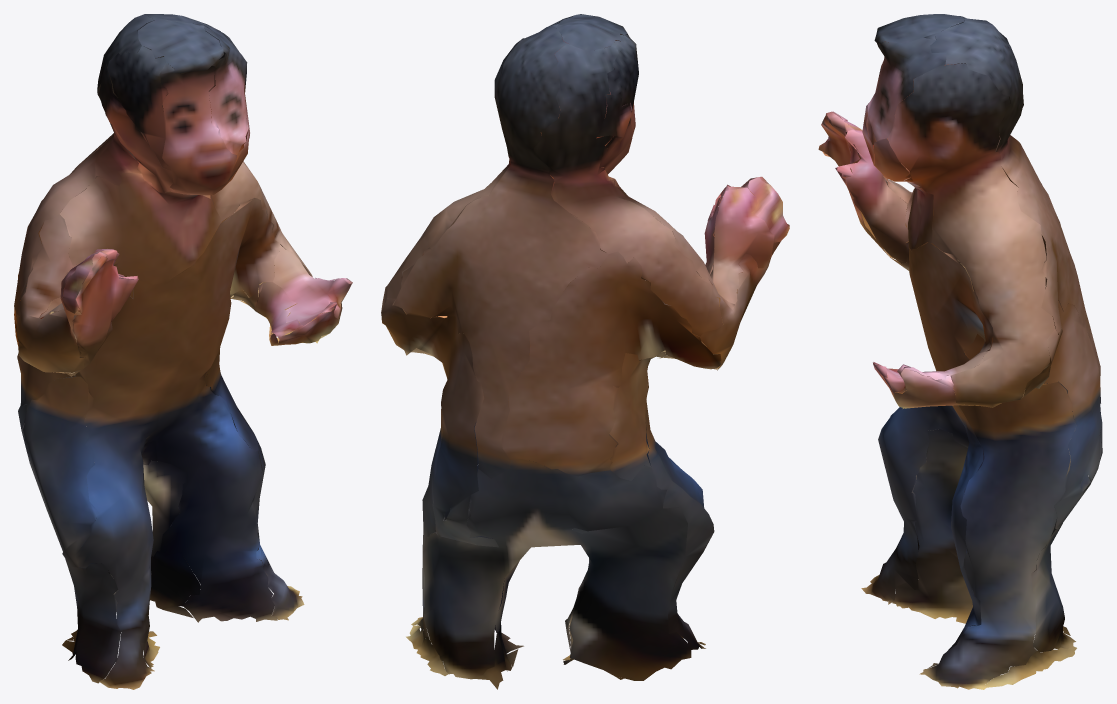
Rendered from dollG.glb.
3 views of the same model, side by side, from view 1: azimuth 30°, elevation 25°; view 2: azimuth 150°, elevation 25°; view 3: azimuth 270°, elevation 25° (orthographic).
Parts seen in each view (by area): view 1: Geom; view 2: Geom; view 3: Geom.
Boxes of the visible parts, <box> form: Geom: <box>14,14,352,689</box>; Geom: <box>381,14,789,689</box>; Geom: <box>818,14,1102,689</box>.
Bounding box in the file's own units: 0.0482 × 0.0899 × 0.0381.
1 material, 1 textured.
